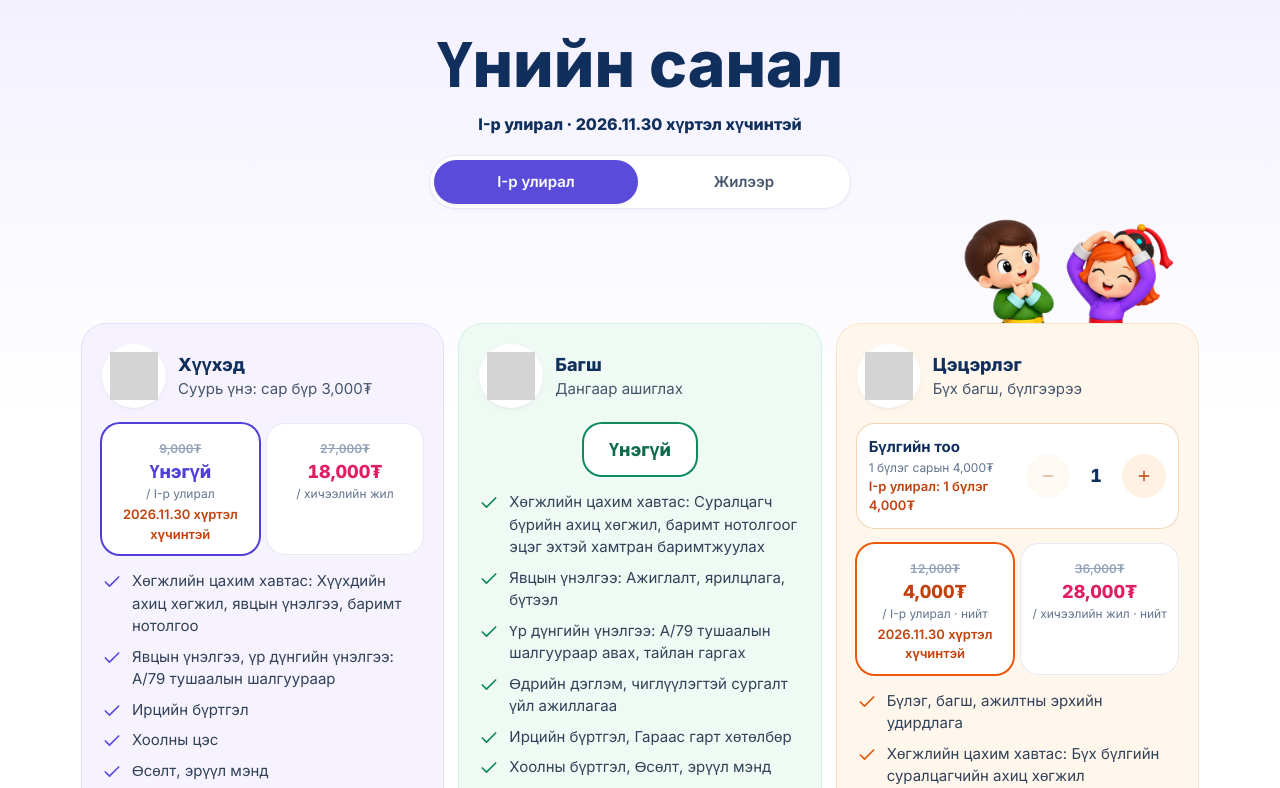
Test case: the pricing page › recalculates the kindergarten term and year as groups change
The width and height of the screenshot is (1280, 788).
Expected: the button named "Бүлгийн тоо хасах" is disabled, top-left (1026, 454), bottom-right (1070, 498)
Click the button named "Бүлгийн тоо нэмэх". click: (1144, 476)
box: top-left (1122, 454), bottom-right (1166, 498)
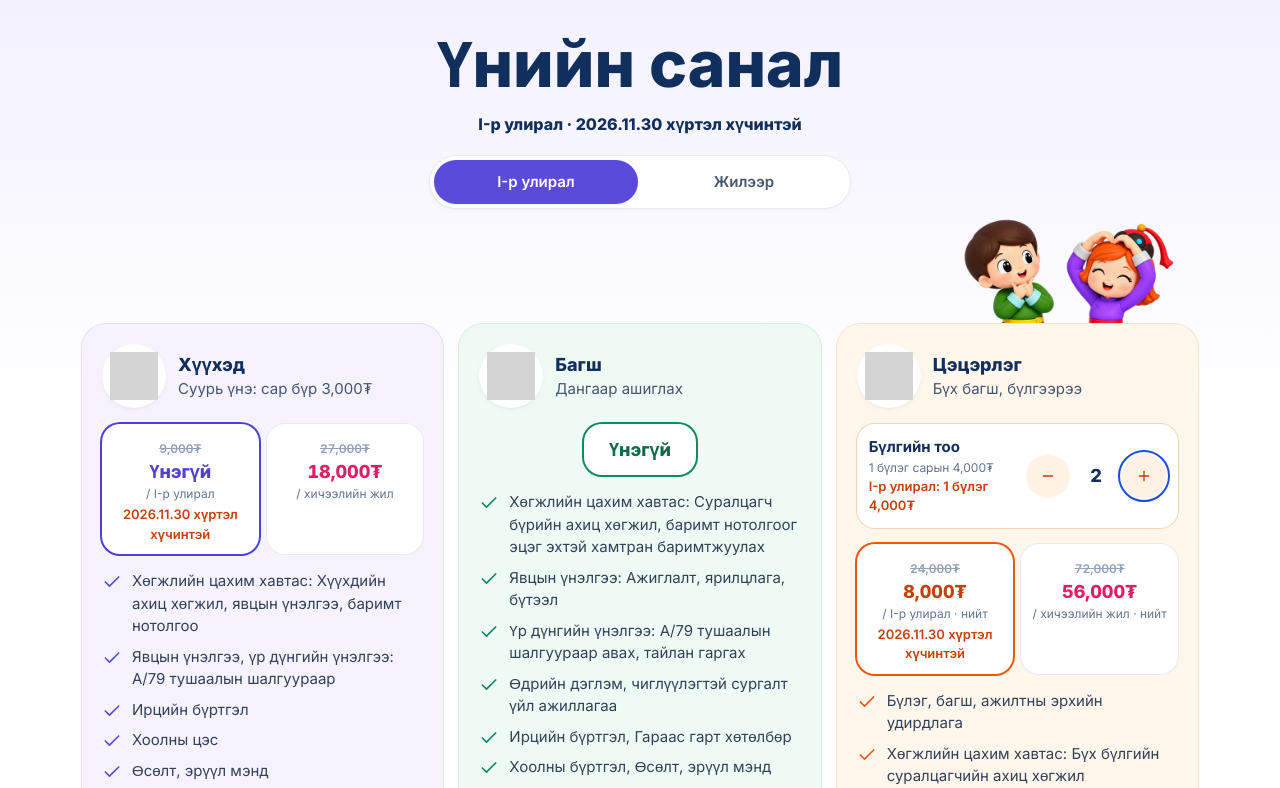
Expected: the text named "Сонгосон бүлгийн тоо" reads "2", top-left (1090, 465), bottom-right (1102, 486)
Expected: the text "8,000₮" is shown, top-left (903, 580), bottom-right (967, 602)
Expected: the text "56,000₮" is shown, top-left (1062, 580), bottom-right (1137, 602)
Click the button named "Бүлгийн тоо хасах". click: (1048, 476)
box: top-left (1026, 454), bottom-right (1070, 498)
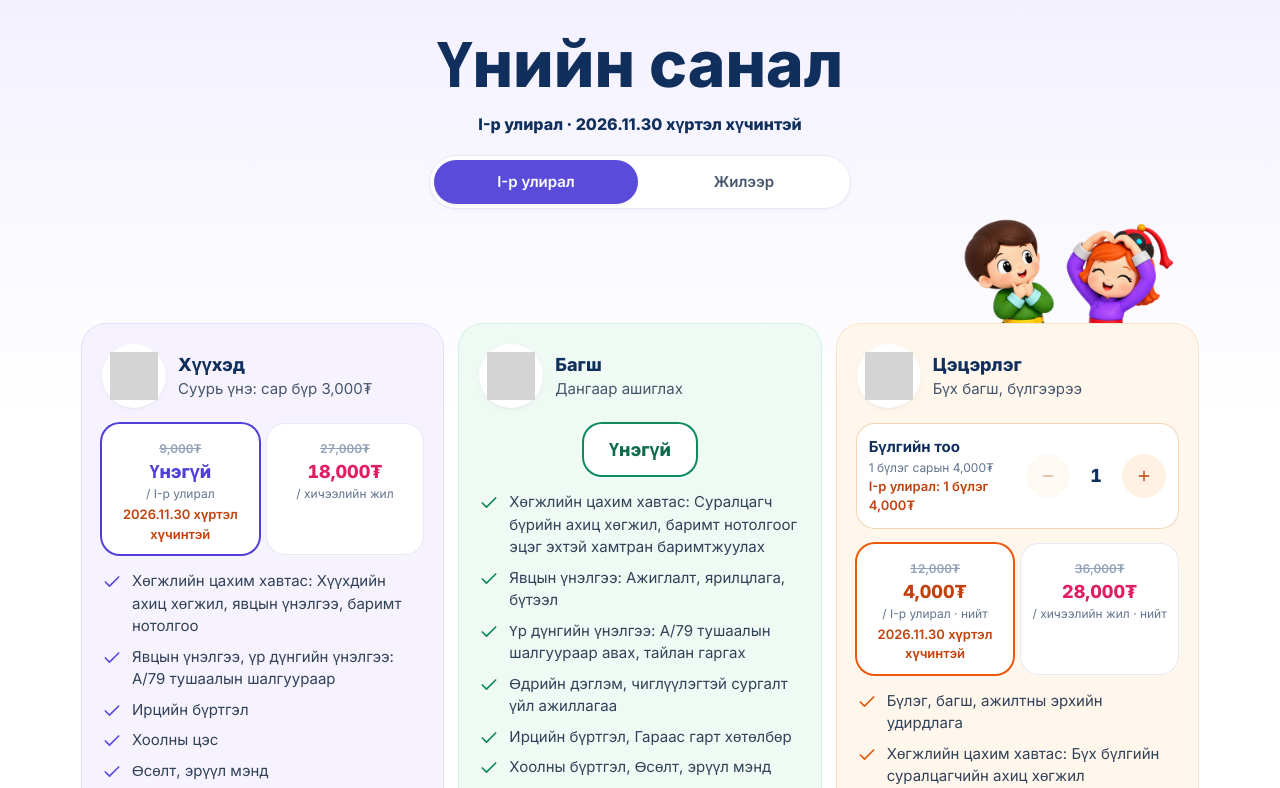
Expected: the text named "Сонгосон бүлгийн тоо" reads "1", top-left (1090, 465), bottom-right (1102, 486)
